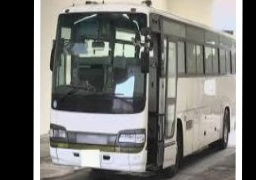bus: (49, 0, 234, 180)
